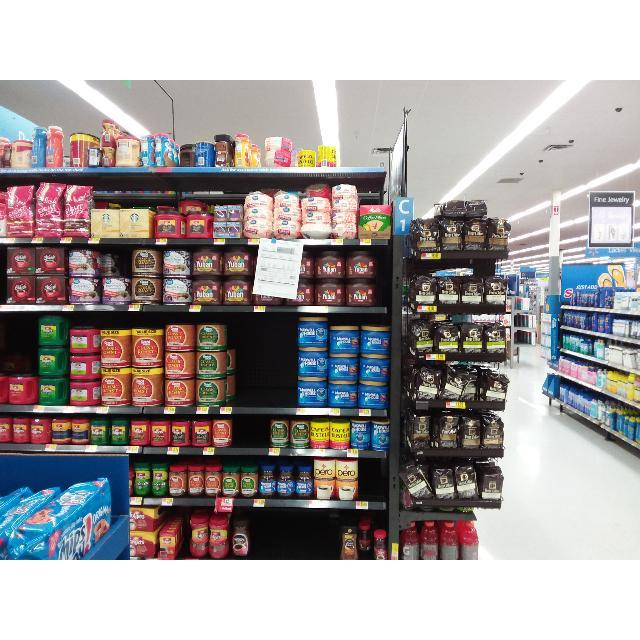empty: (235, 314, 298, 408), (248, 507, 339, 559), (358, 458, 388, 502), (232, 415, 270, 447)
